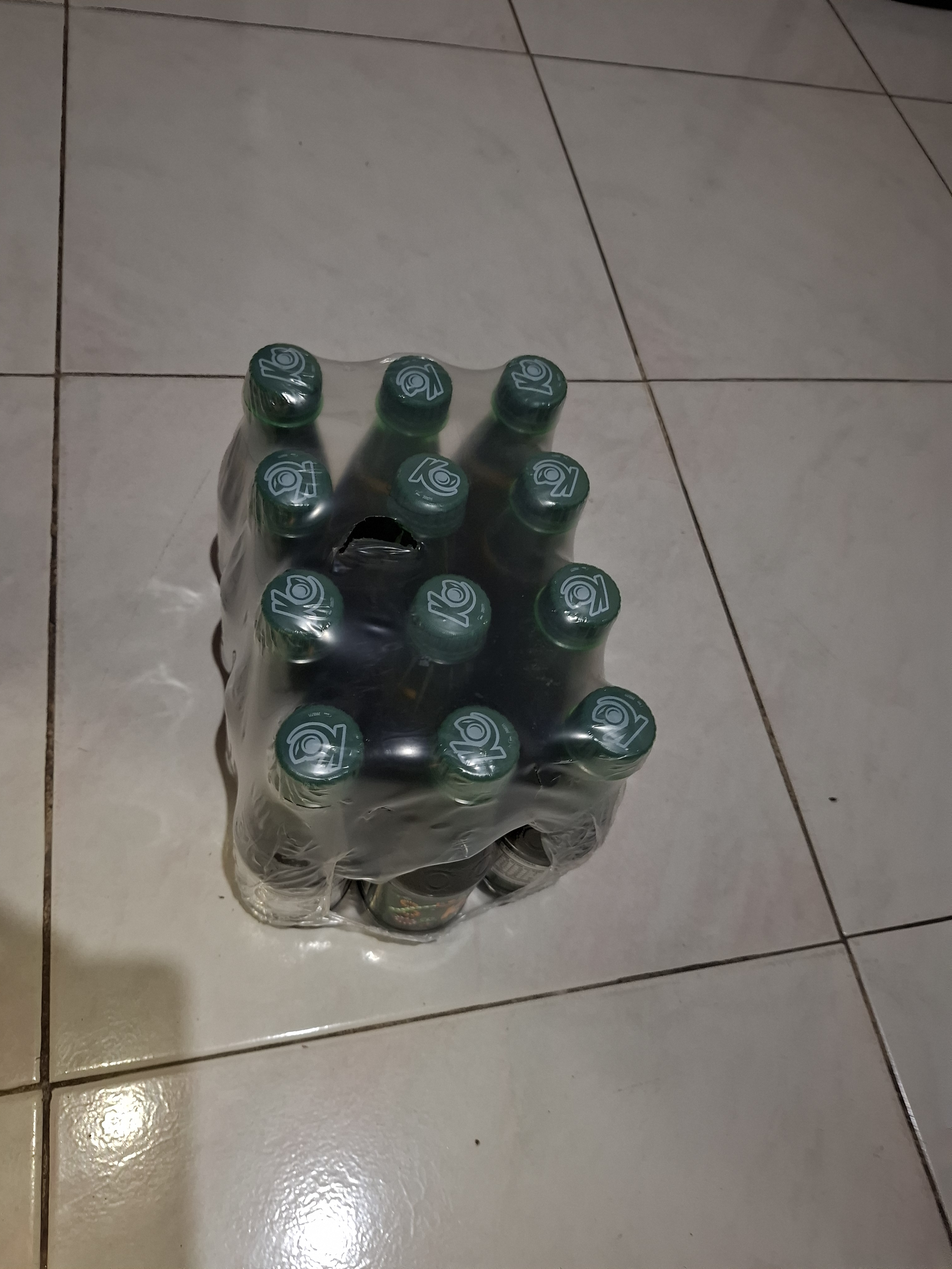Tampa Refrigerante Kuat: (574, 687, 667, 781), (272, 700, 361, 795), (504, 446, 599, 533), (254, 448, 333, 541), (261, 565, 345, 652), (437, 703, 521, 788), (378, 345, 460, 431), (409, 566, 490, 652), (247, 331, 324, 421), (390, 448, 471, 532), (548, 558, 625, 644), (496, 351, 574, 426)
